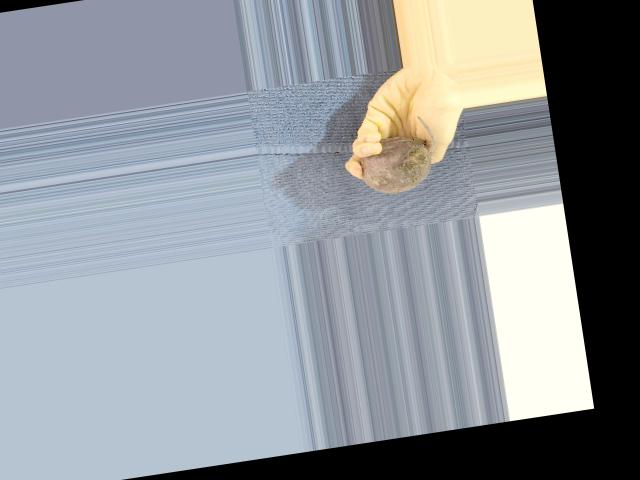beet: (353, 113, 442, 196)
